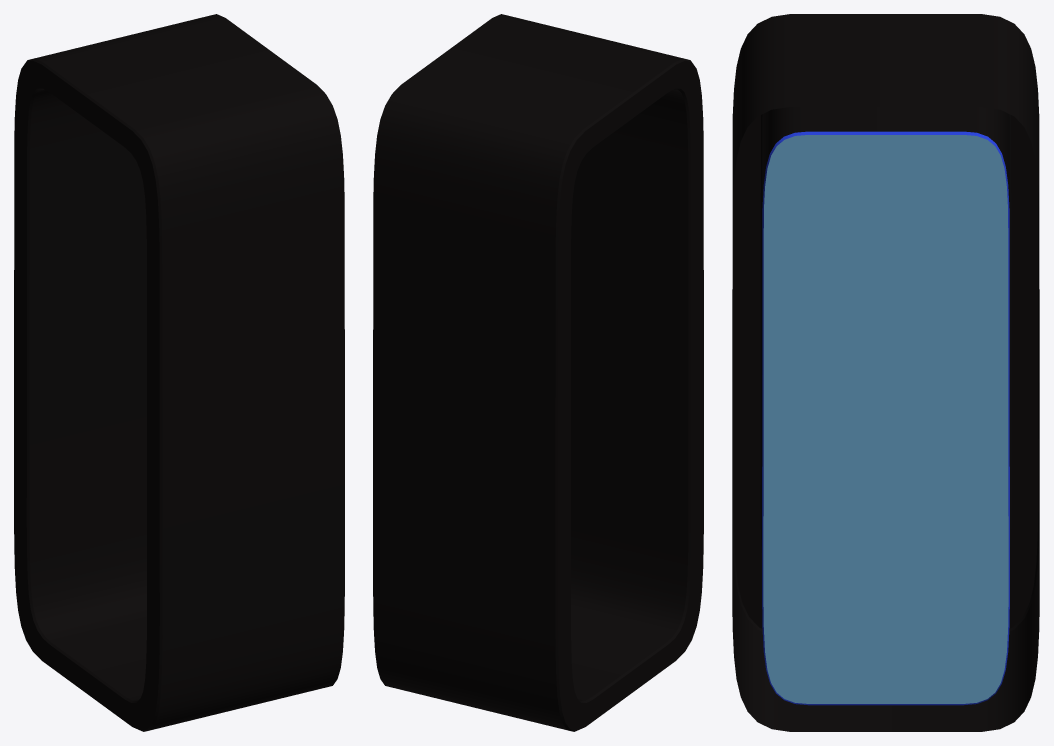
The model's file is BarShelft3.fbx.
3 views of the same model, side by side, from view 1: azimuth 30°, elevation 25°; view 2: azimuth 150°, elevation 25°; view 3: azimuth 270°, elevation 25° (orthographic). The views are drawn at different scales.
Visible parts, largest first — view 1: Plane.191; view 2: Plane.191; view 3: Plane.191.
Boxes of the visible parts, x1,y1,x2,y2 form: Plane.191: (14,14,344,731); Plane.191: (373,14,703,731); Plane.191: (732,14,1039,731).
Size of the model in its own units: 44.8 by 139 by 61.97.
2 materials, 2 textured.
